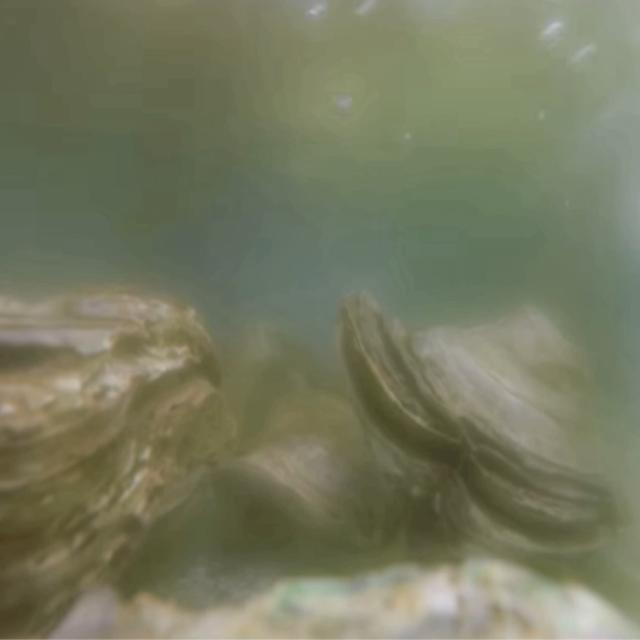Oyster-Closed: (0, 287, 240, 640)
Oyster-Indeterminate: (235, 393, 410, 554)
Oyster-Open: (337, 290, 640, 564)
